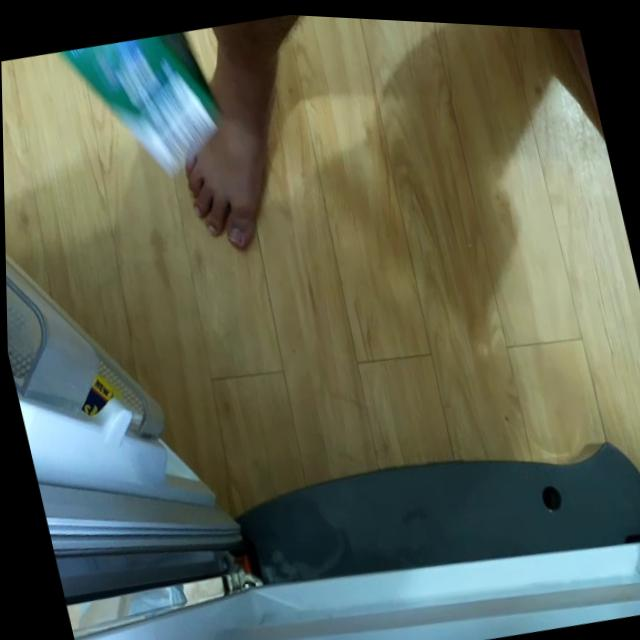milk: (41, 21, 229, 198)
